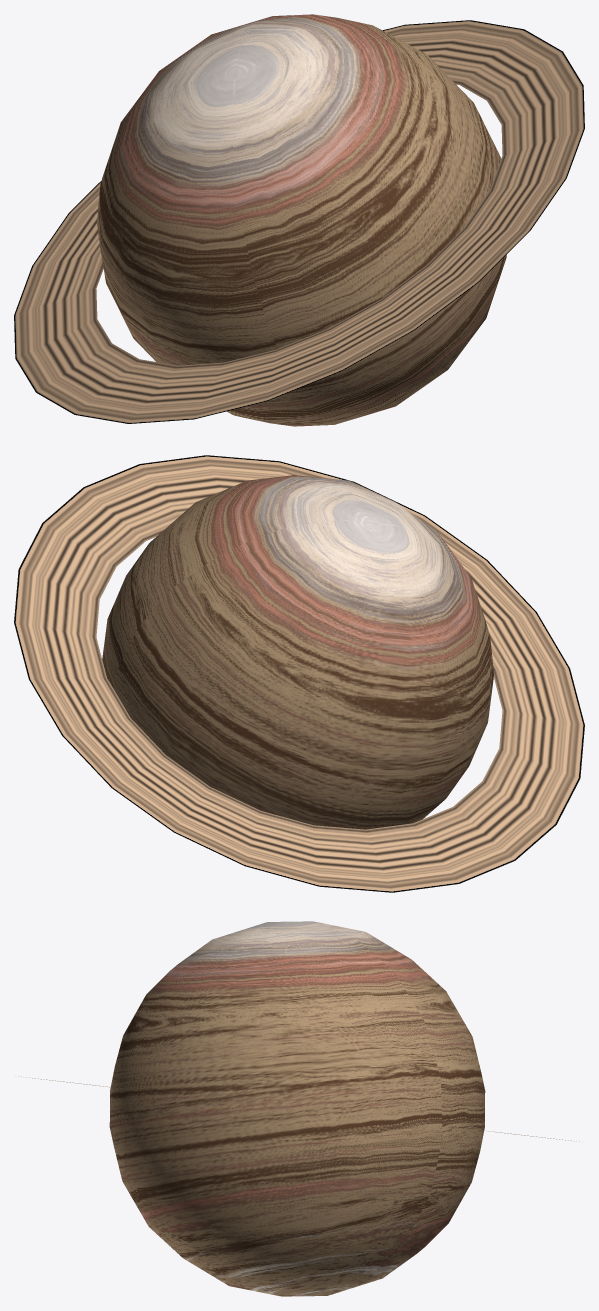
File: gas_giant_1.glb
3 views of the same model, one above another, from view 1: azimuth 30°, elevation 25°; view 2: azimuth 150°, elevation 25°; view 3: azimuth 270°, elevation 25° (orthographic). The views are drawn at different scales.
Parts seen in each view (by area): view 1: gas_giant_1, gas_giant_1_ring; view 2: gas_giant_1, gas_giant_1_ring; view 3: gas_giant_1.
Part boxes in pixels (box(x1,y1,x2,y2)): gas_giant_1: box(97, 14, 506, 426); gas_giant_1_ring: box(14, 20, 584, 423); gas_giant_1: box(102, 475, 493, 829); gas_giant_1_ring: box(14, 455, 584, 892); gas_giant_1: box(109, 921, 485, 1296).
Size of the model in its own units: 2.16 by 1.57 by 2.36.
2 materials, 2 textured.
